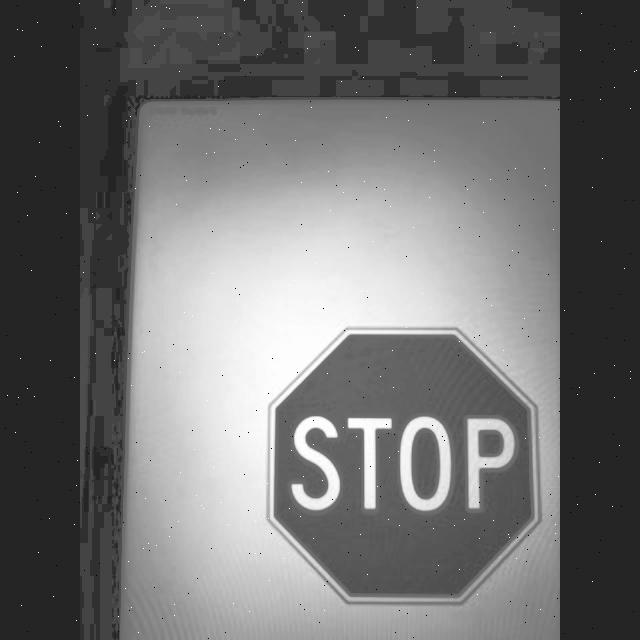STOP: (269, 325, 535, 599)
